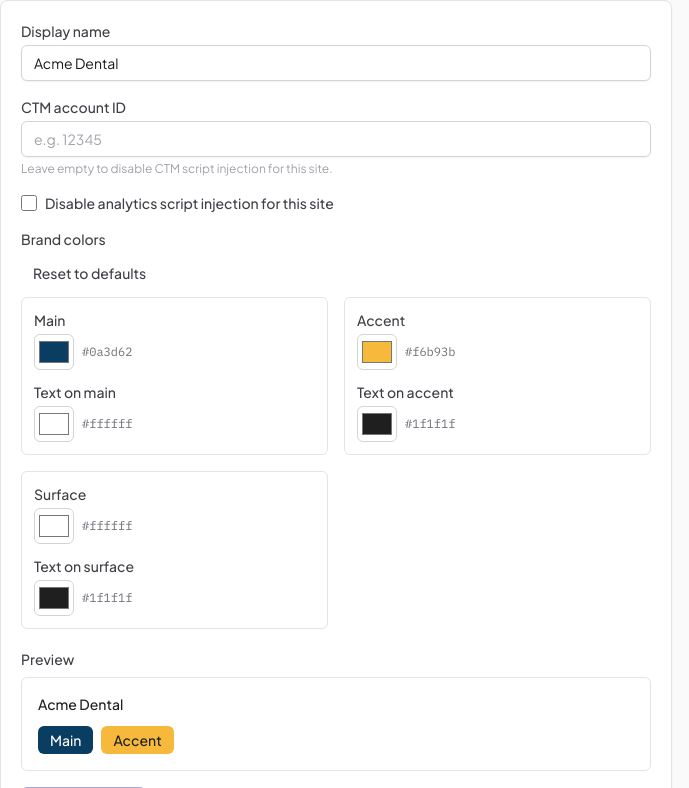
SettingsTab (P4-T4.15) › surfaces a save validation error
Replace the text in the field labelled "Display name" with "Renamed": (336, 63) [21,45,651,81]
(page scrolled)
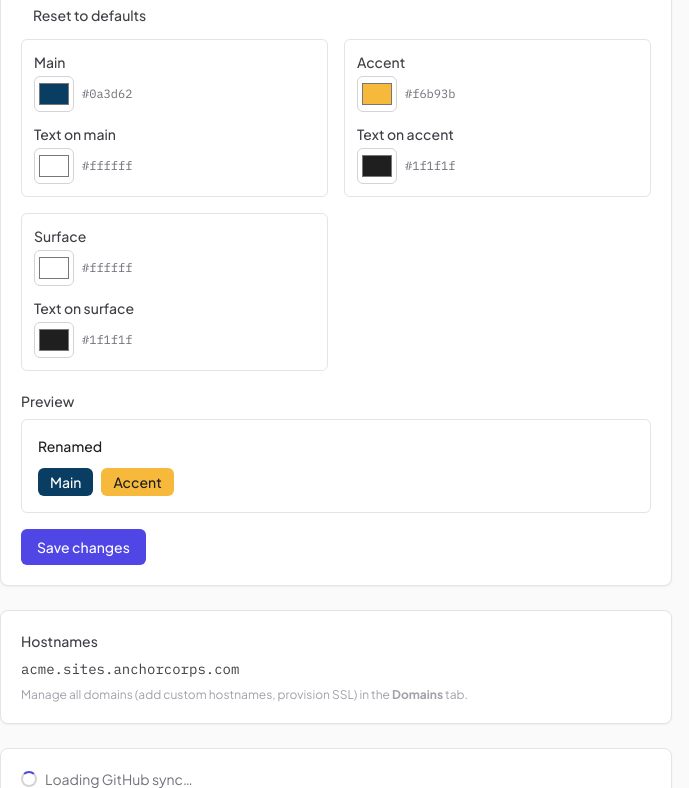
Click the button "Save changes": (83, 547) [21,529,146,565]
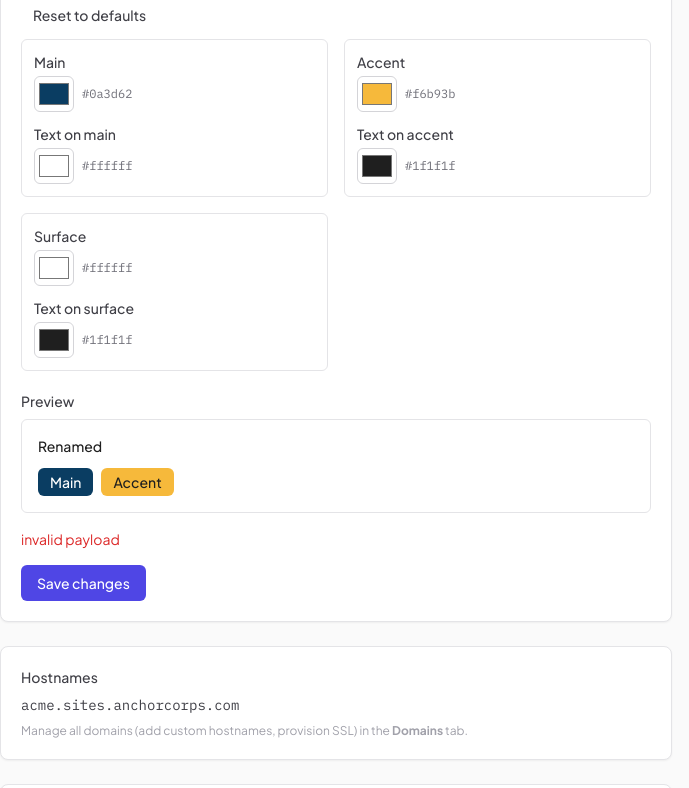
Now the text "invalid payload" is shown, box [21,530,120,548]
